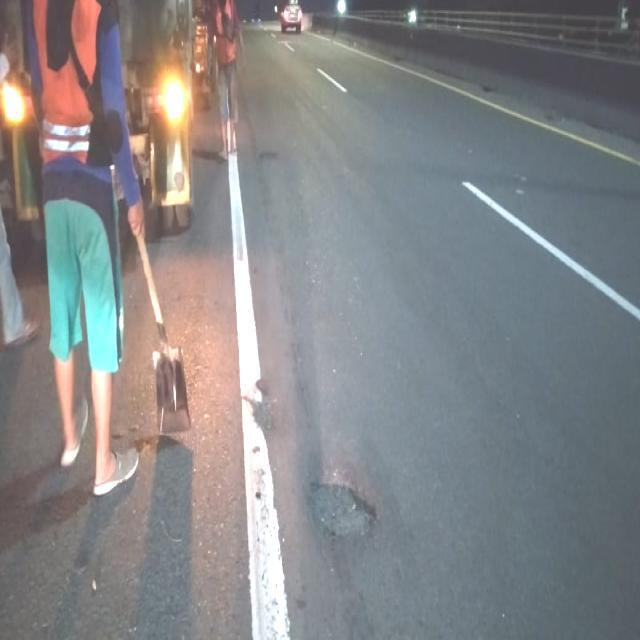Buraco: (305, 478, 382, 542)
